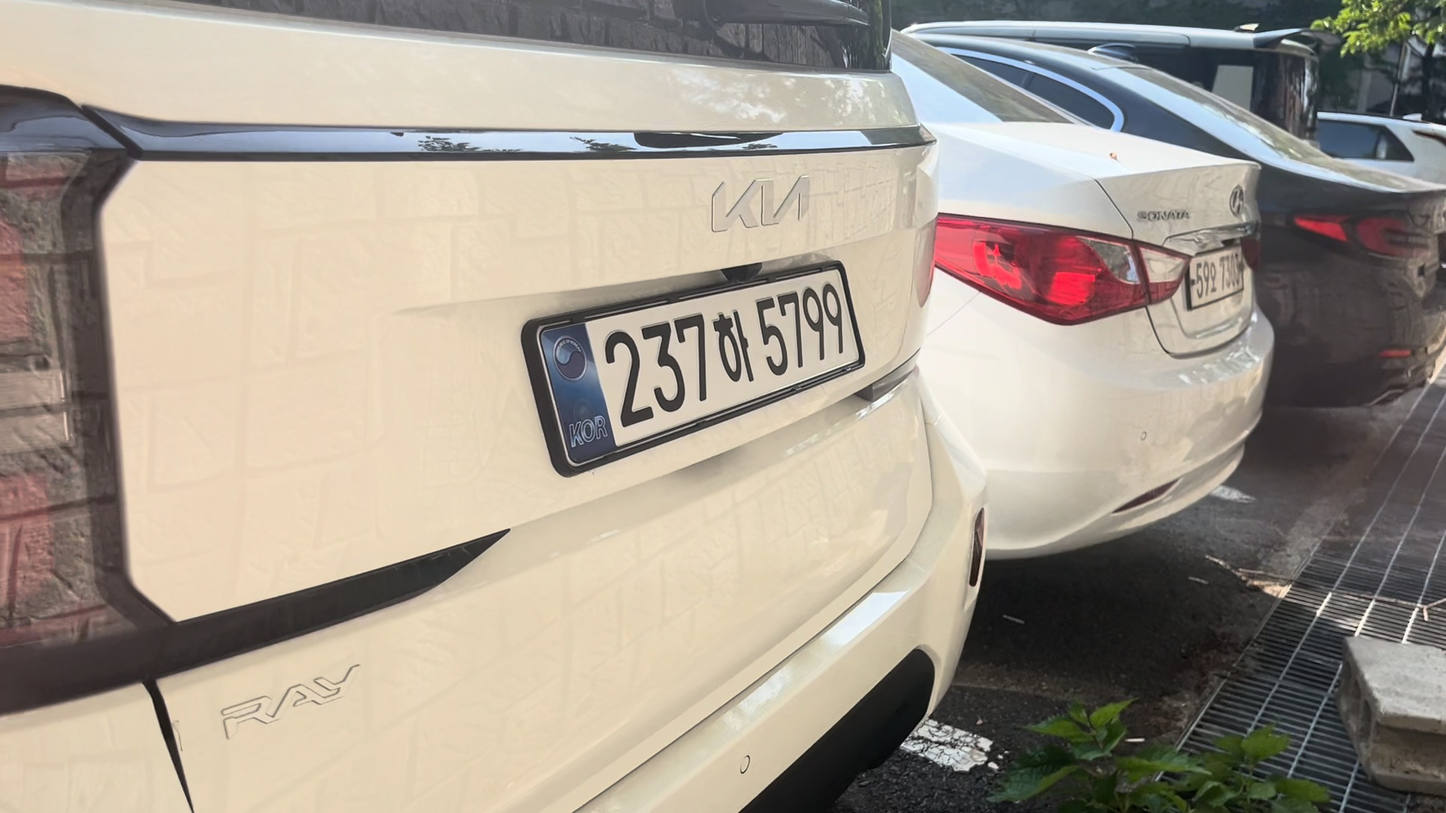car_emblem: (709, 170, 811, 243)
license_plate: (524, 265, 863, 473), (1187, 248, 1247, 309)
tail_light: (935, 215, 1189, 324)
